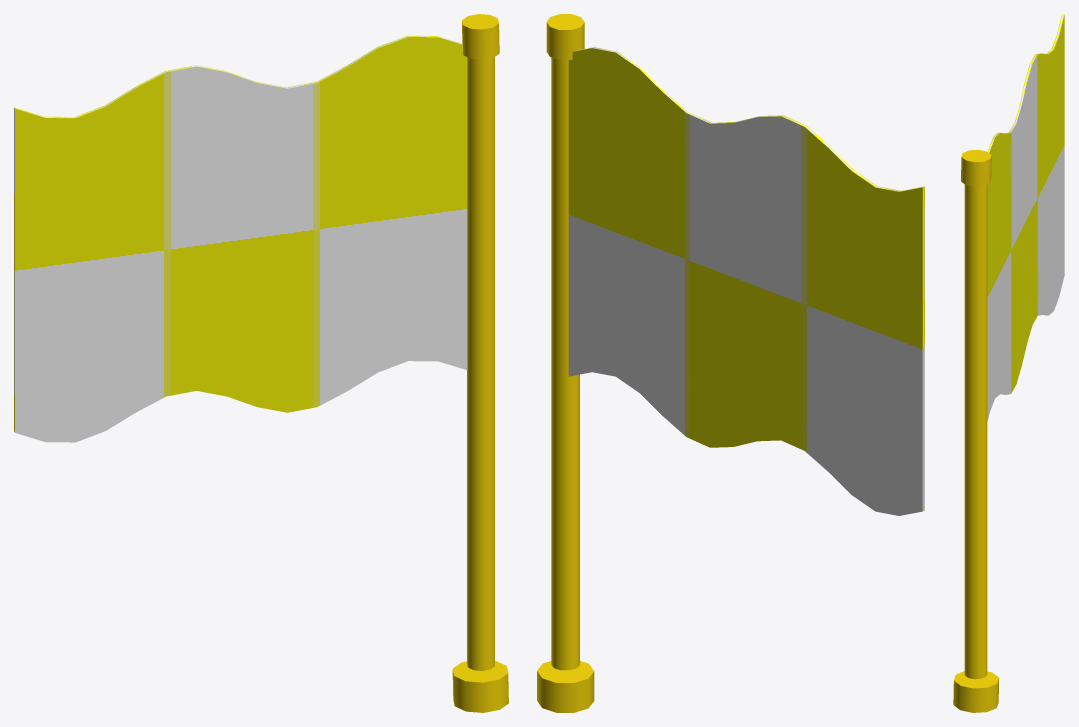
Rendered from flag.fbx.
The picture shows the model from 3 angles, left to right: view 1: azimuth 30°, elevation 25°; view 2: azimuth 150°, elevation 25°; view 3: azimuth 270°, elevation 25°; orthographic projection. The views are drawn at different scales.
Visible parts, largest first — view 1: REF:FLAG02, Cylinder48, Cylinder49, Cylinder47; view 2: REF:FLAG02, Cylinder48, Cylinder49, Cylinder47; view 3: REF:FLAG02, Cylinder48, Cylinder49, Cylinder47.
Boxes of the visible parts, <box> form: REF:FLAG02: <box>14,35,467,442</box>; Cylinder48: <box>467,57,494,670</box>; Cylinder49: <box>452,660,508,712</box>; Cylinder47: <box>462,14,499,59</box>; REF:FLAG02: <box>568,47,924,515</box>; Cylinder48: <box>551,57,579,670</box>; Cylinder49: <box>537,661,594,712</box>; Cylinder47: <box>546,14,584,59</box>; REF:FLAG02: <box>987,14,1064,421</box>; Cylinder48: <box>964,184,987,679</box>; Cylinder49: <box>953,671,998,712</box>; Cylinder47: <box>961,149,991,186</box>.
Size of the model in its own units: 106 by 157 by 28.94.
